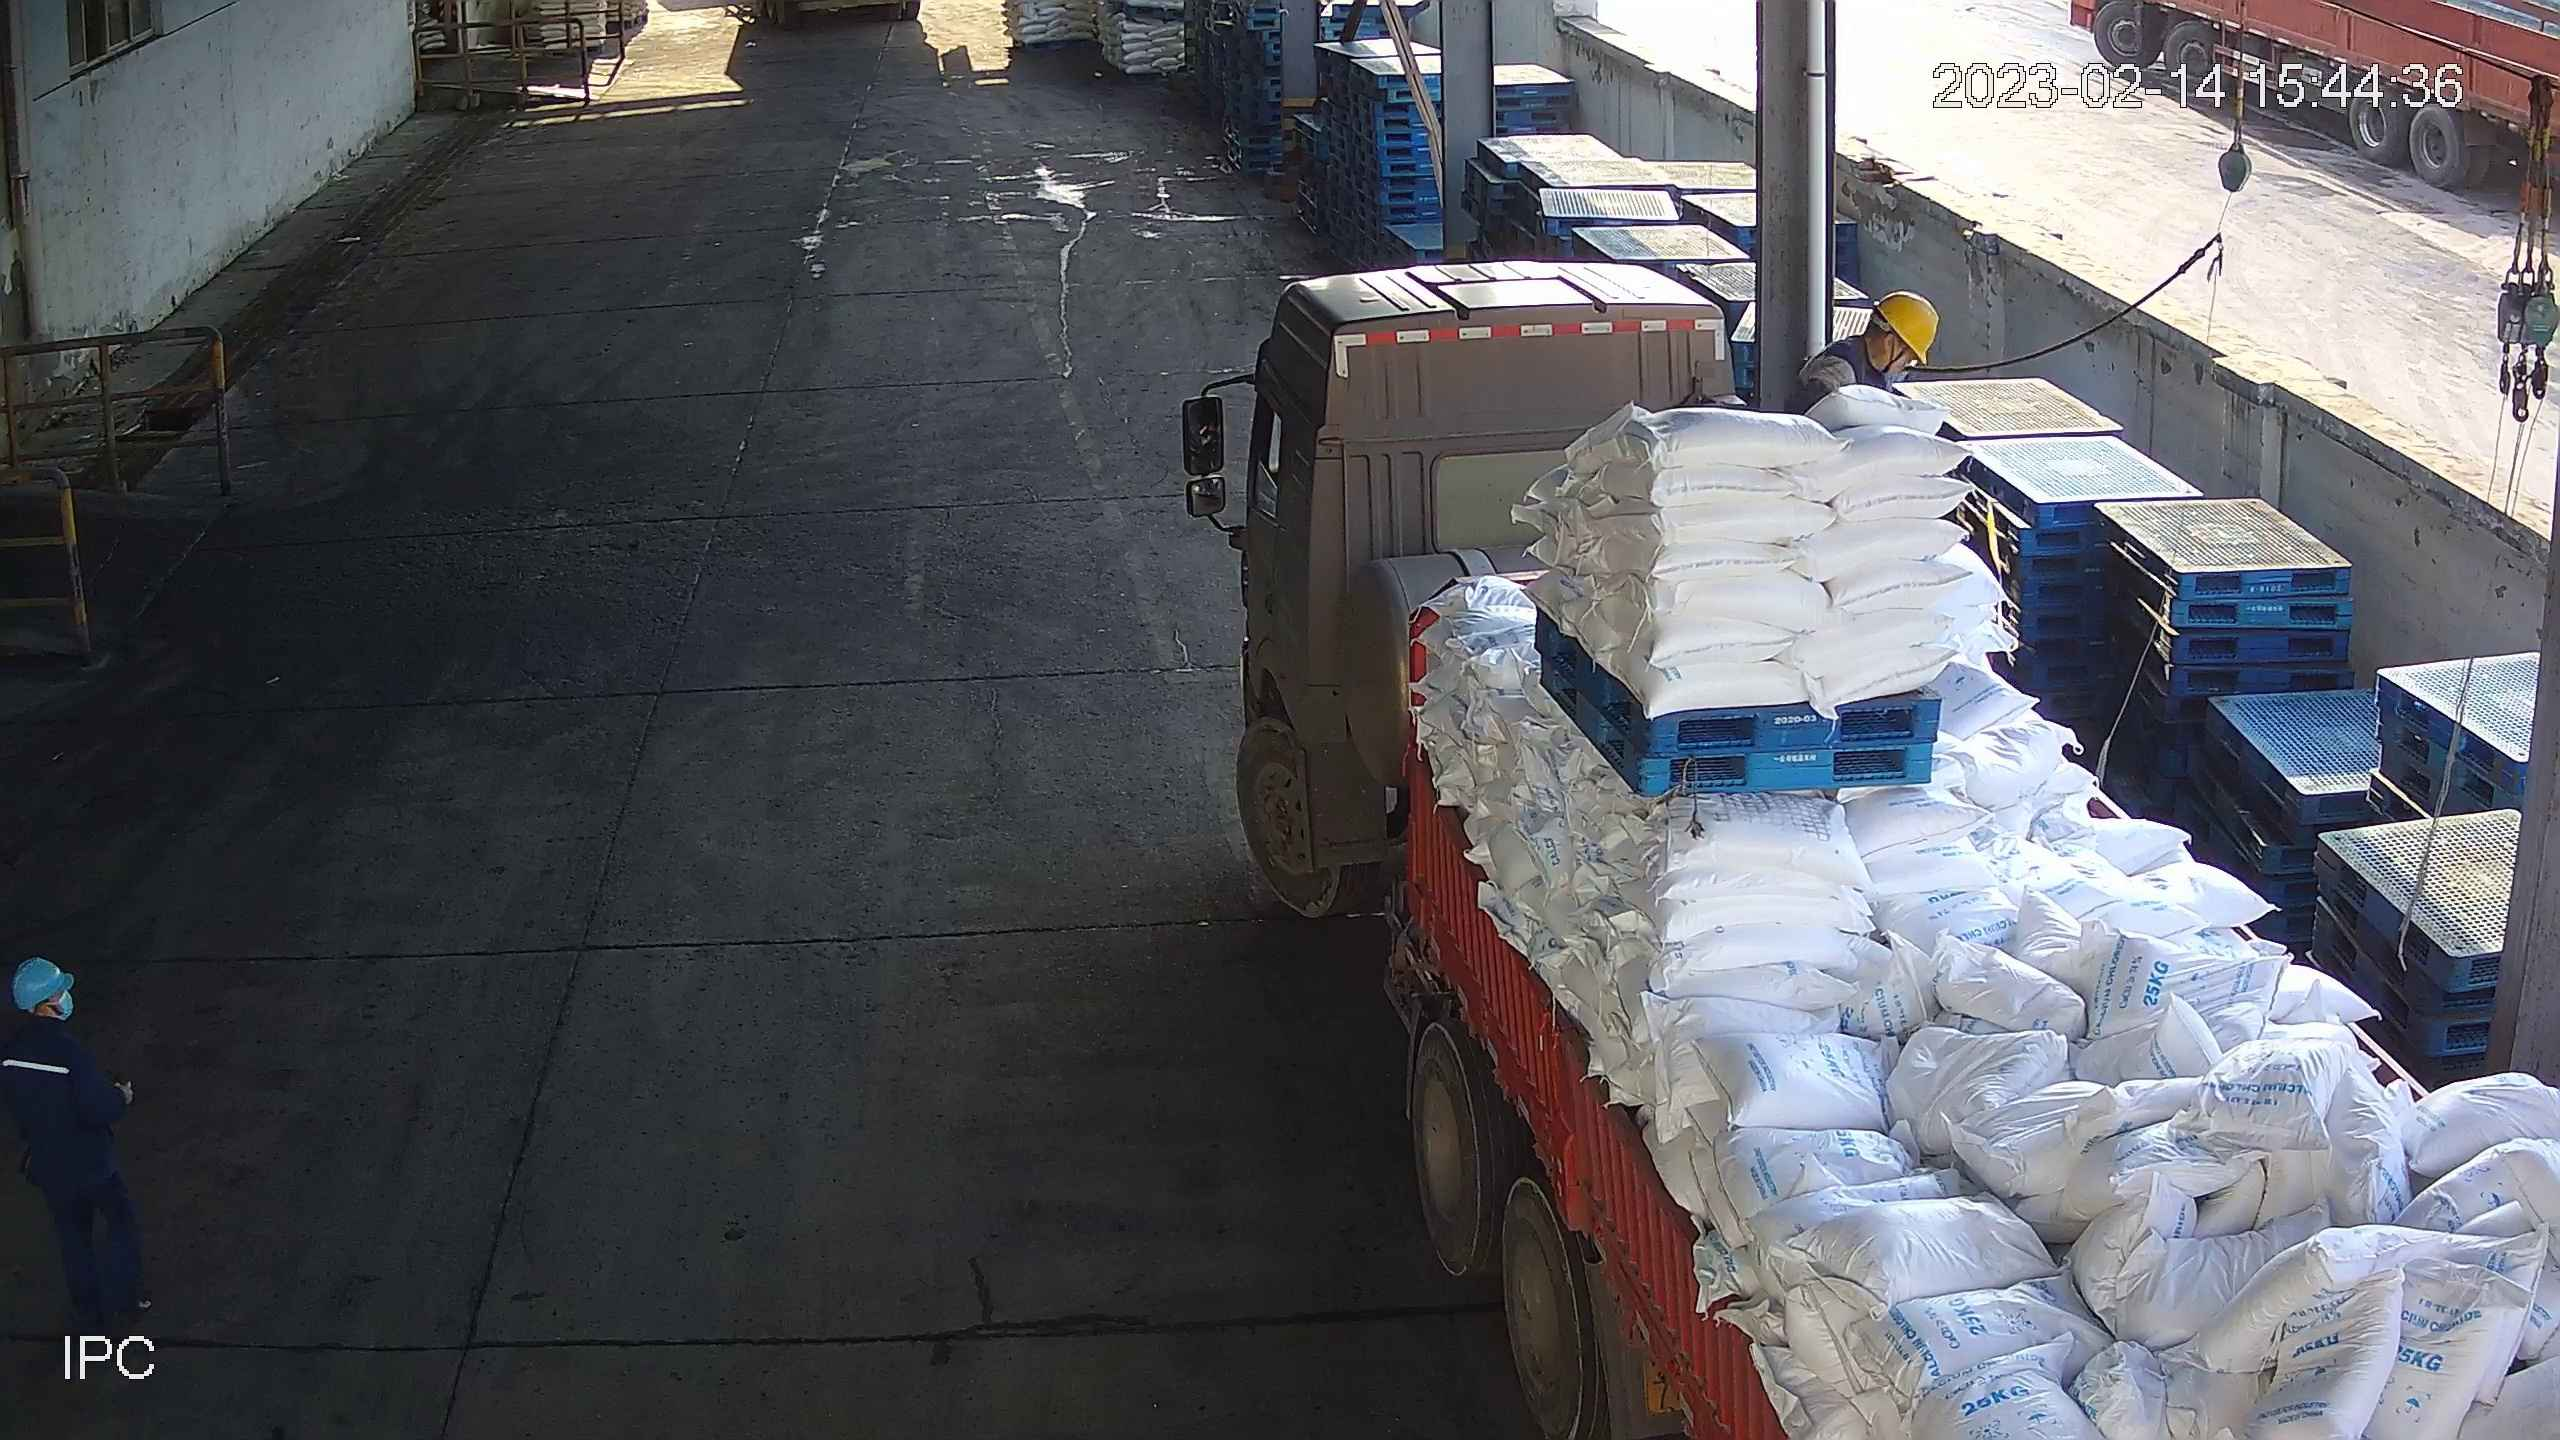head: (2, 960, 100, 1069), (1821, 293, 1934, 382)
helmet: (1874, 288, 1937, 362), (11, 958, 77, 1001)
people: (2, 955, 128, 1349)
truck: (1176, 260, 2560, 1440)
